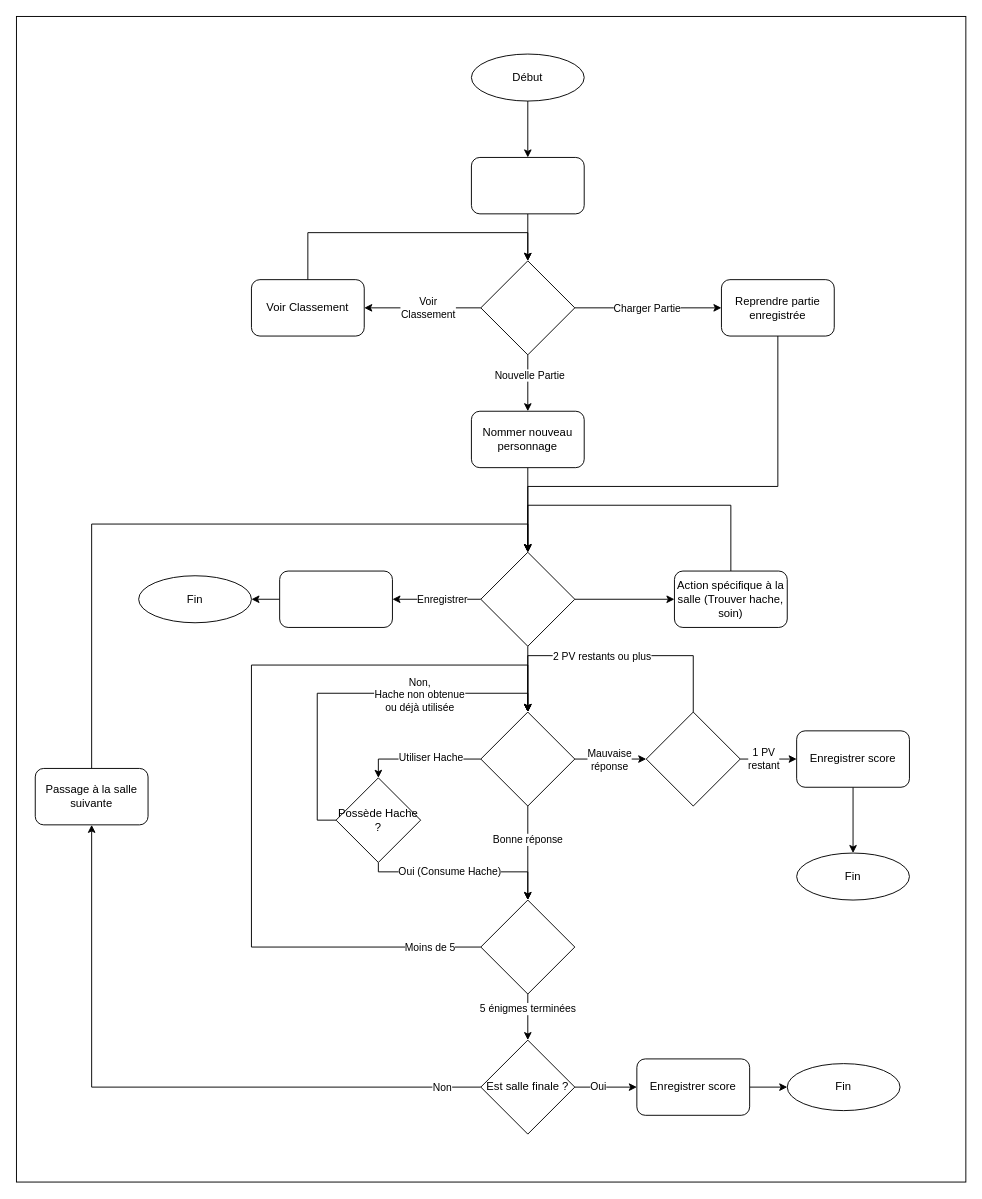
This 982x1199 diagram has some shape labels left out. The shapes that lost their labels are listed below. From the top down, each one's box as (x1, y1, x2, y2) in pixels, then its label:
(470, 157, 584, 214): Entrer nom du joueur
(480, 260, 575, 355): Choix Menu Principal
(279, 570, 392, 627): Enregistrer et quitter
(480, 551, 575, 646): Que faire dans salle ?
(480, 711, 575, 806): Que faire face à l'énigme ?
(645, 711, 740, 806): Combien PV Restant ?
(480, 899, 575, 994): Nombre d'énigmes terminées ?
